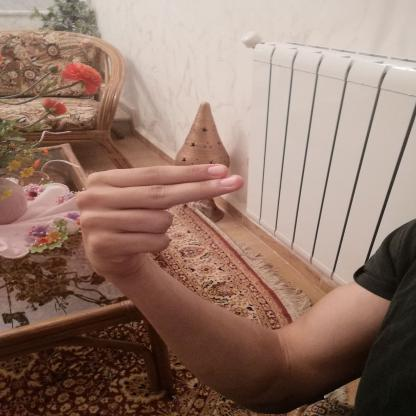AYN: (59, 155, 263, 287)
